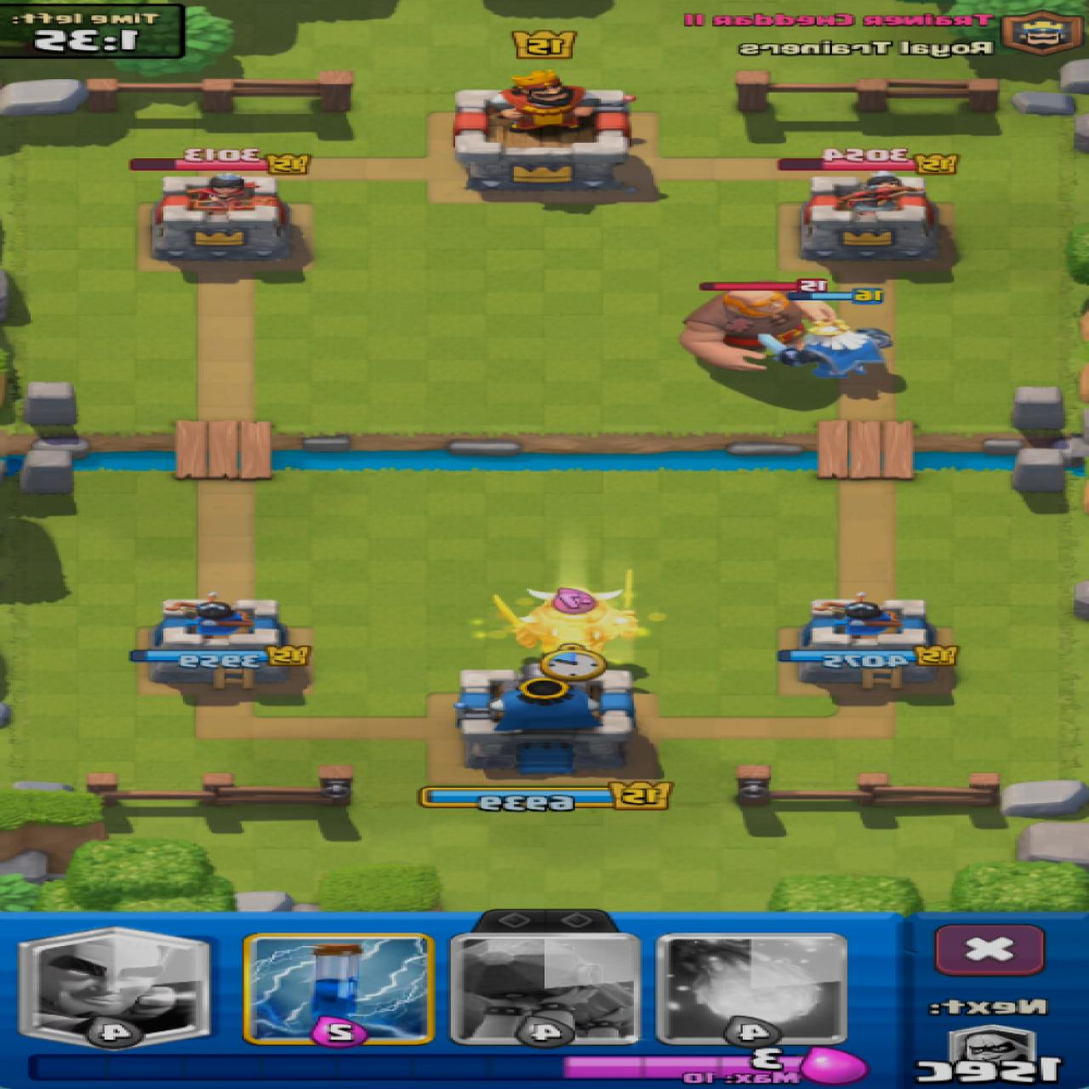Enemy-Giant: (682, 288, 834, 370)
Enemy-KingTower: (455, 71, 632, 194)
Enemy-PrincessTower: (802, 171, 939, 262), (155, 173, 290, 261)
